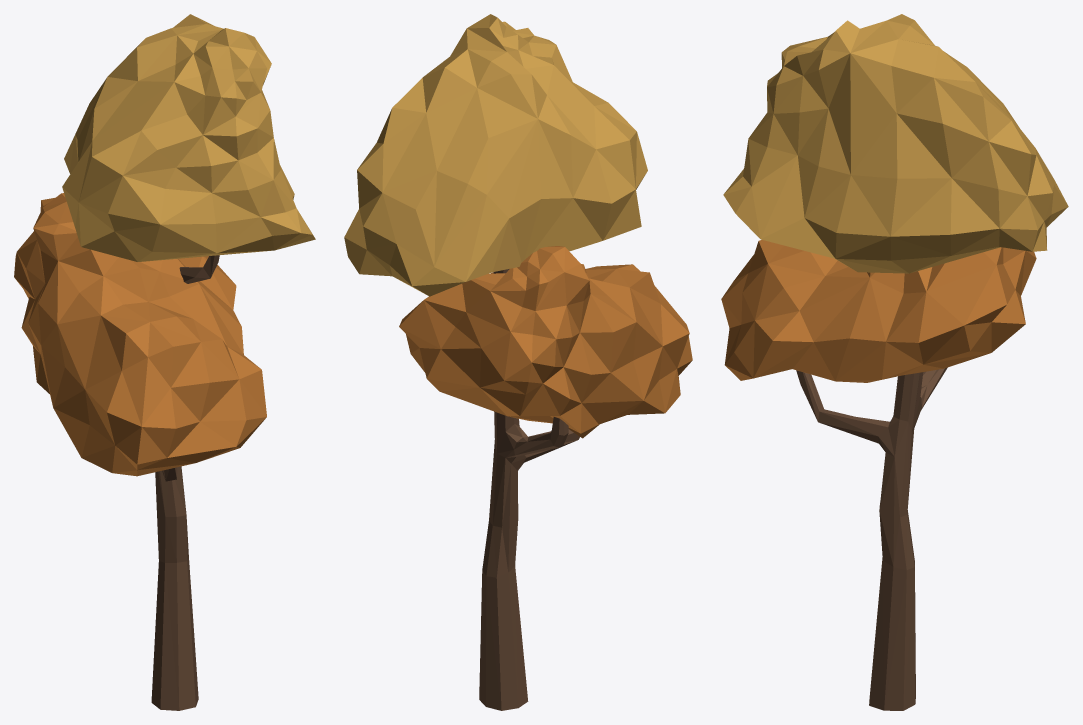
Rendered from CommonTree_Autumn_3.glb.
3 views of the same model, side by side, from view 1: azimuth 30°, elevation 25°; view 2: azimuth 150°, elevation 25°; view 3: azimuth 270°, elevation 25° (orthographic). The views are drawn at different scales.
Parts seen in each view (by area): view 1: CommonTree_Autumn_3; view 2: CommonTree_Autumn_3; view 3: CommonTree_Autumn_3.
Part boxes in pixels (x1,y1,x2,y2): CommonTree_Autumn_3: (14, 14, 315, 710); CommonTree_Autumn_3: (344, 14, 692, 710); CommonTree_Autumn_3: (721, 14, 1068, 710).
Size of the model in its own units: 1.28 by 3.45 by 1.56.
